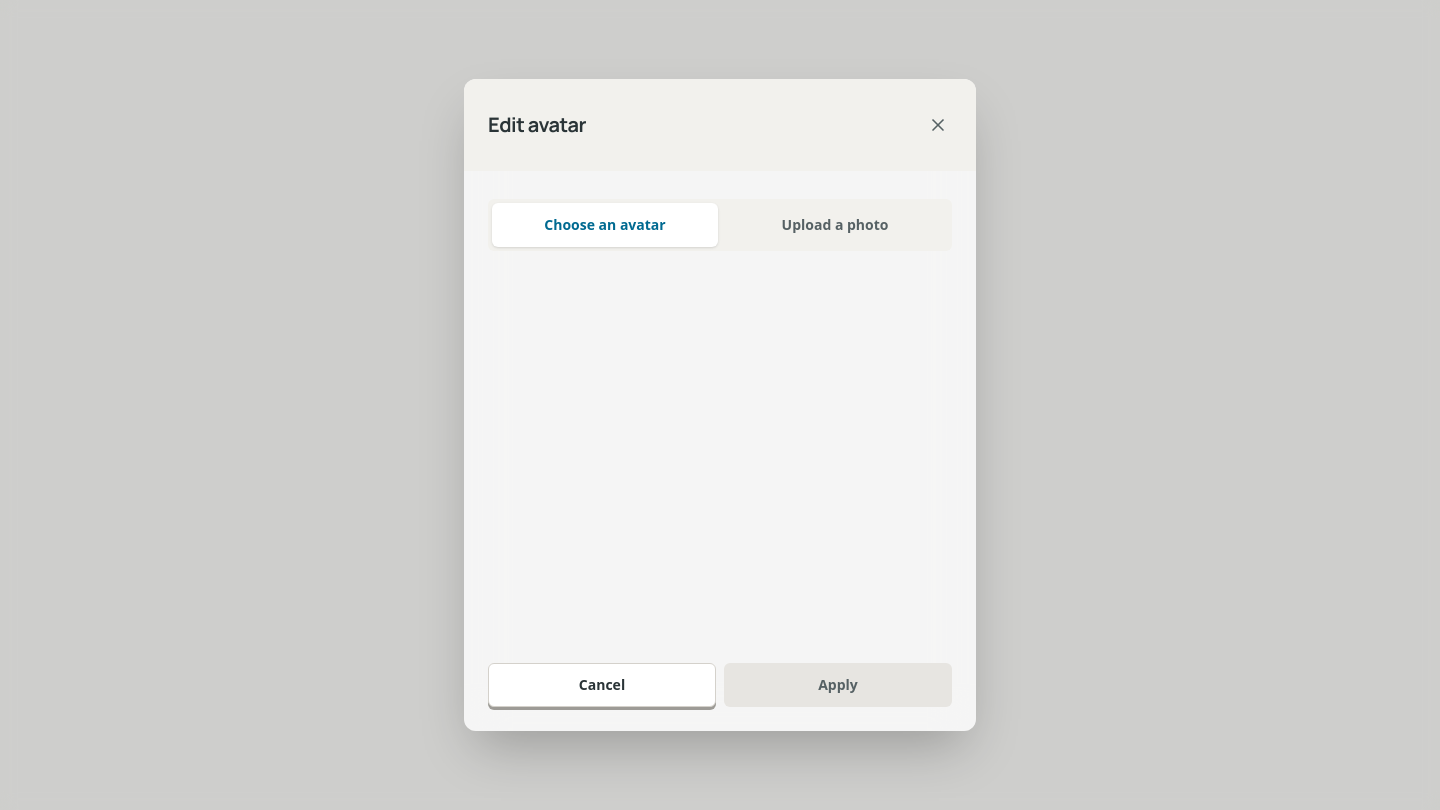
Test: the avatar picker's upload tab › lists every format the server accepts, AVIF included
The image size is (1440, 810).
Click the button "Upload a photo" at (835, 225), box [722,203,948,247]
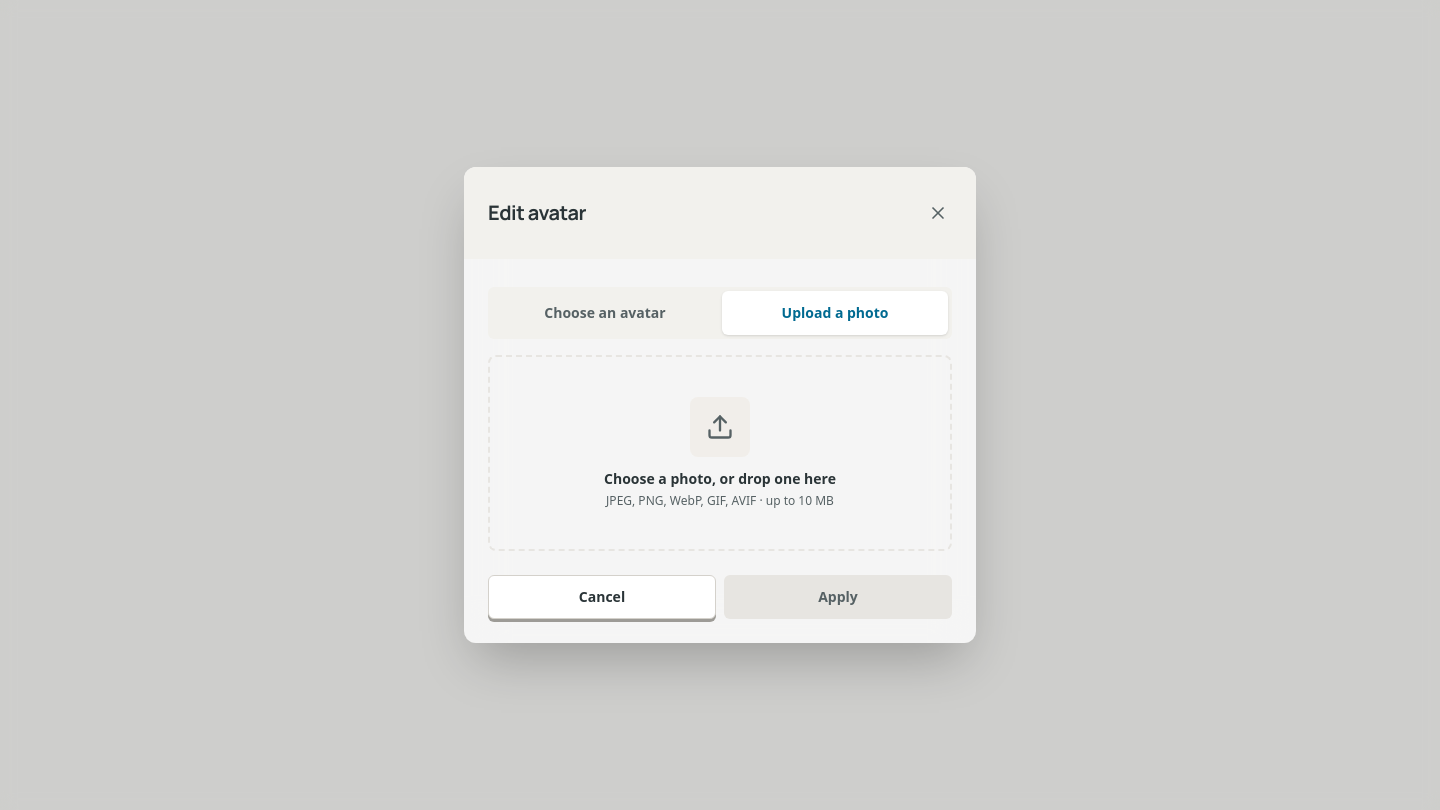
expect the text "JPEG, PNG, WebP, GIF, AVIF · up to 10 MB" is shown: met, box [604,493,836,509]
